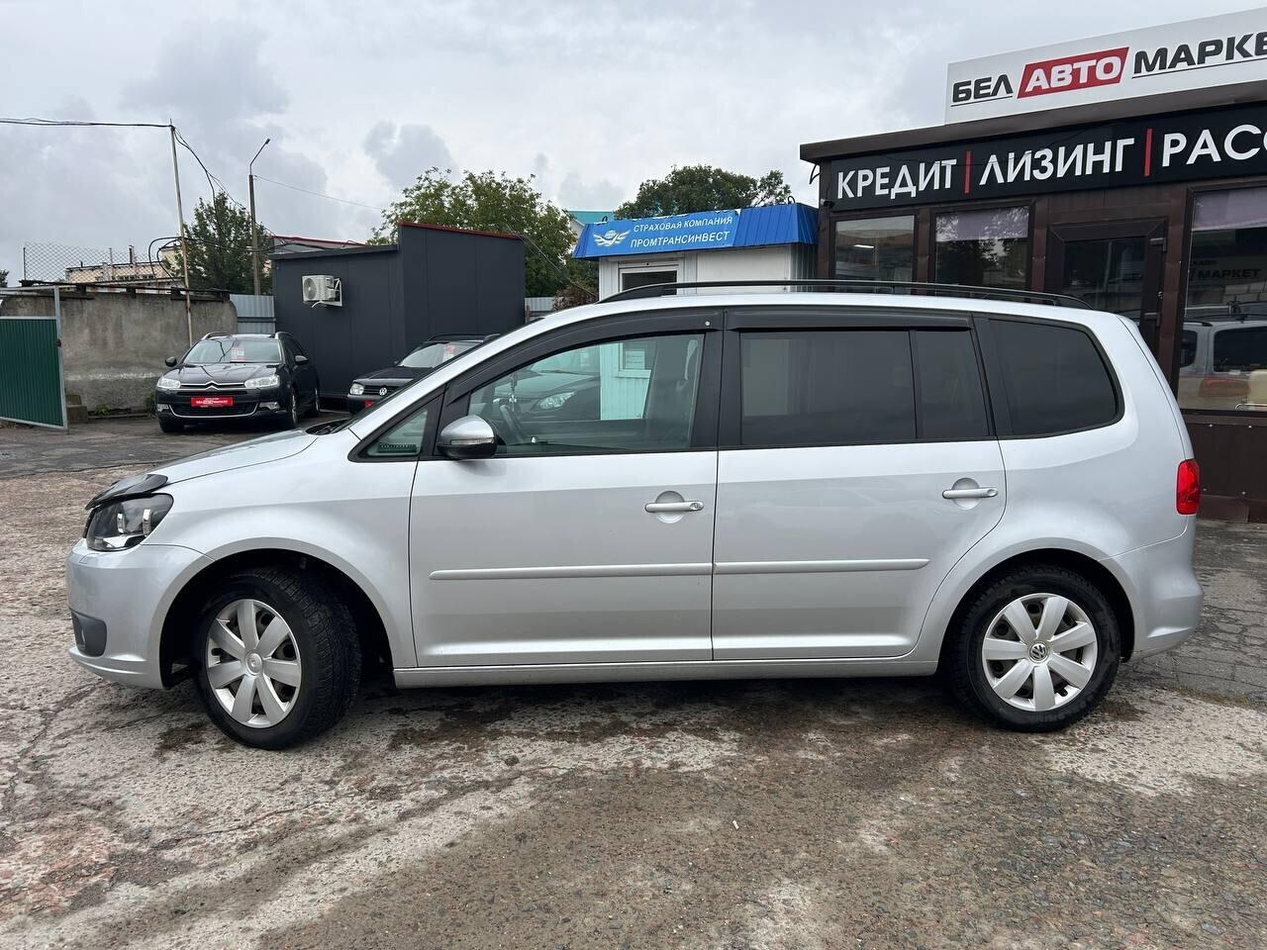Touran_2010-2015: (54, 277, 1213, 734)
